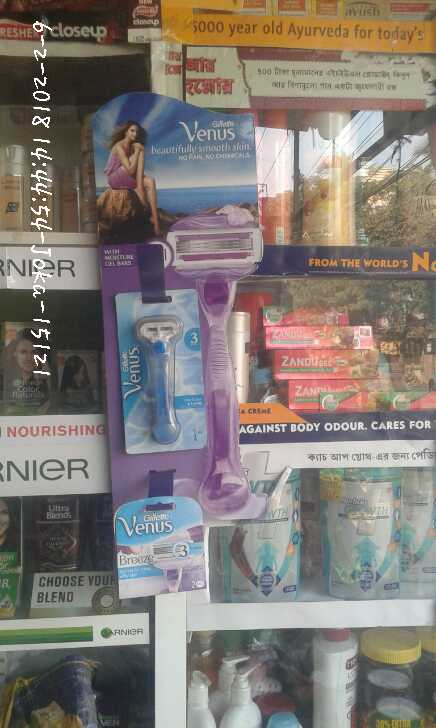venus: (118, 294, 202, 450), (117, 489, 208, 597)
